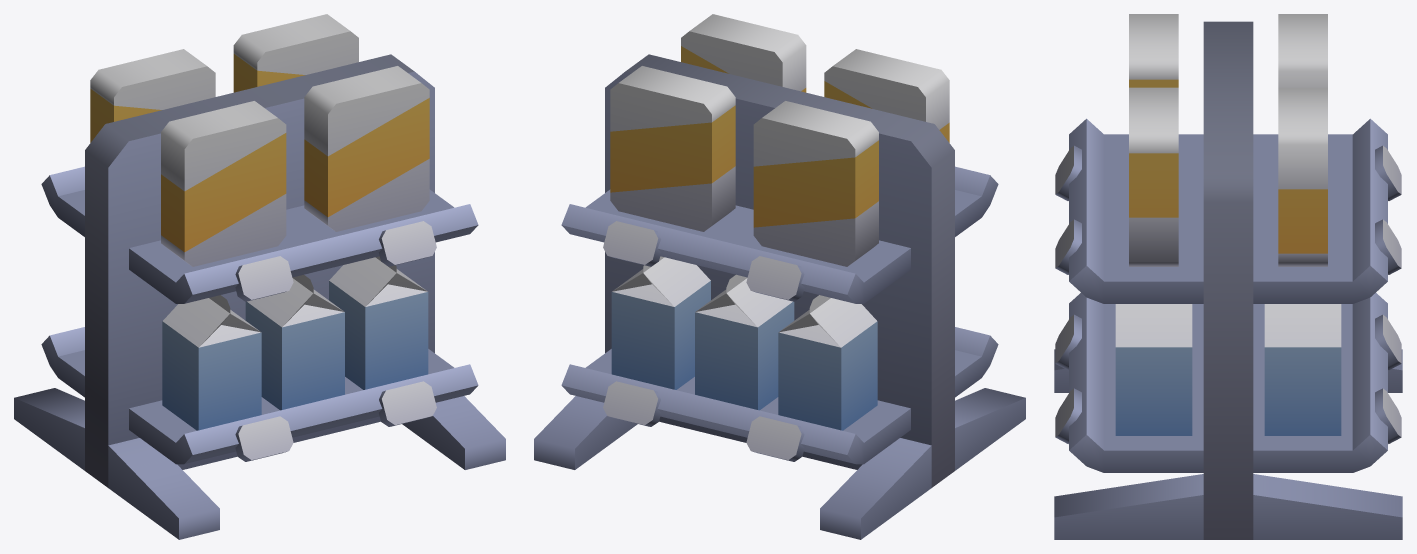
File: shelf_boxes.fbx
The picture shows the model from 3 angles, left to right: view 1: azimuth 30°, elevation 25°; view 2: azimuth 150°, elevation 25°; view 3: azimuth 270°, elevation 25°; orthographic projection. The views are drawn at different scales.
Parts seen in each view (by area): view 1: shelf-boxes; view 2: shelf-boxes; view 3: shelf-boxes.
Part boxes in pixels (x1,y1,x2,y2): shelf-boxes: [14, 14, 505, 539]; shelf-boxes: [534, 14, 1025, 539]; shelf-boxes: [1054, 14, 1402, 539].
Size of the model in its own units: 0.9412 by 1 by 0.8235.
